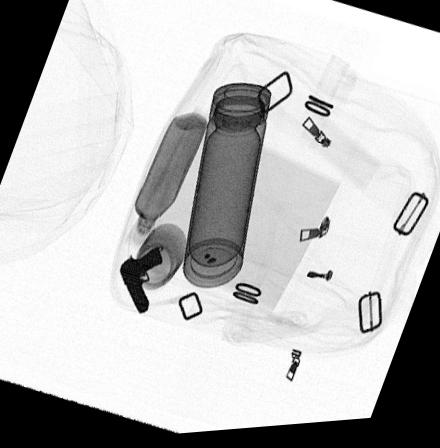Gun: (119, 251, 163, 318)
